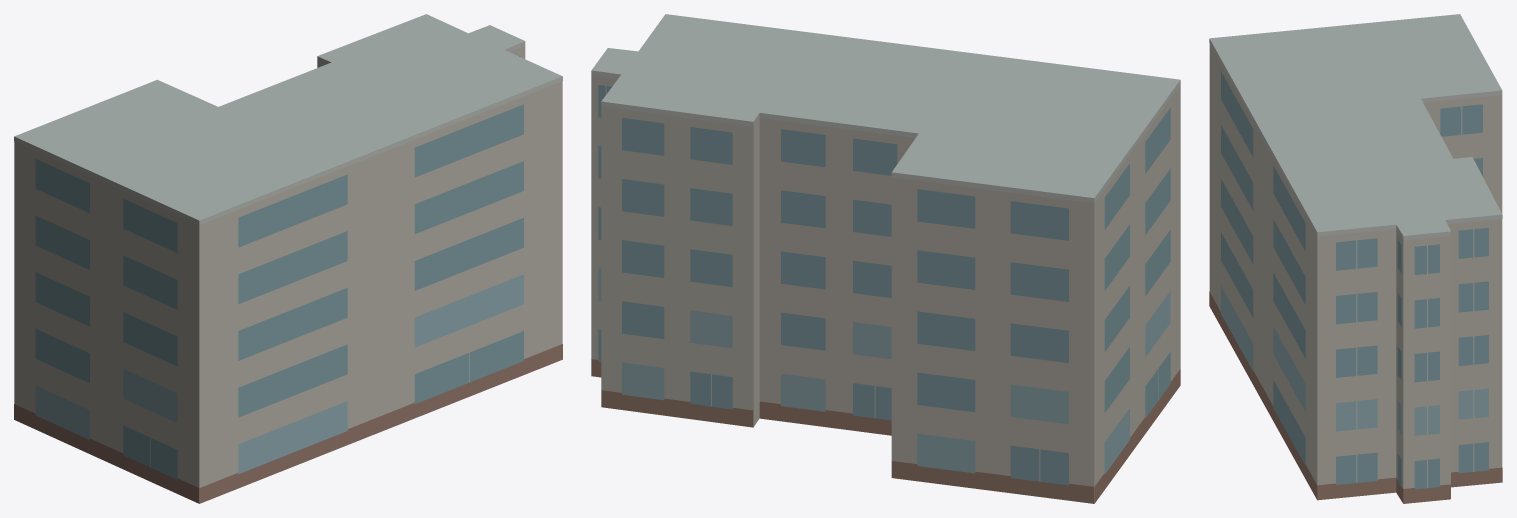
The model's file is survey-upis-33038523.glb.
3 views of the same model, side by side, from view 1: azimuth 30°, elevation 25°; view 2: azimuth 150°, elevation 25°; view 3: azimuth 270°, elevation 25° (orthographic). The views are drawn at different scales.
Parts seen in each view (by area): view 1: survey-upis-33038523.tmp; view 2: survey-upis-33038523.tmp; view 3: survey-upis-33038523.tmp.
Part boxes in pixels (left/top/right/bottom): survey-upis-33038523.tmp: left=14, top=14, right=562, bottom=503; survey-upis-33038523.tmp: left=591, top=14, right=1180, bottom=503; survey-upis-33038523.tmp: left=1209, top=14, right=1502, bottom=503.
Bounding box in the file's own units: 25.9 × 14.57 × 14.45.
